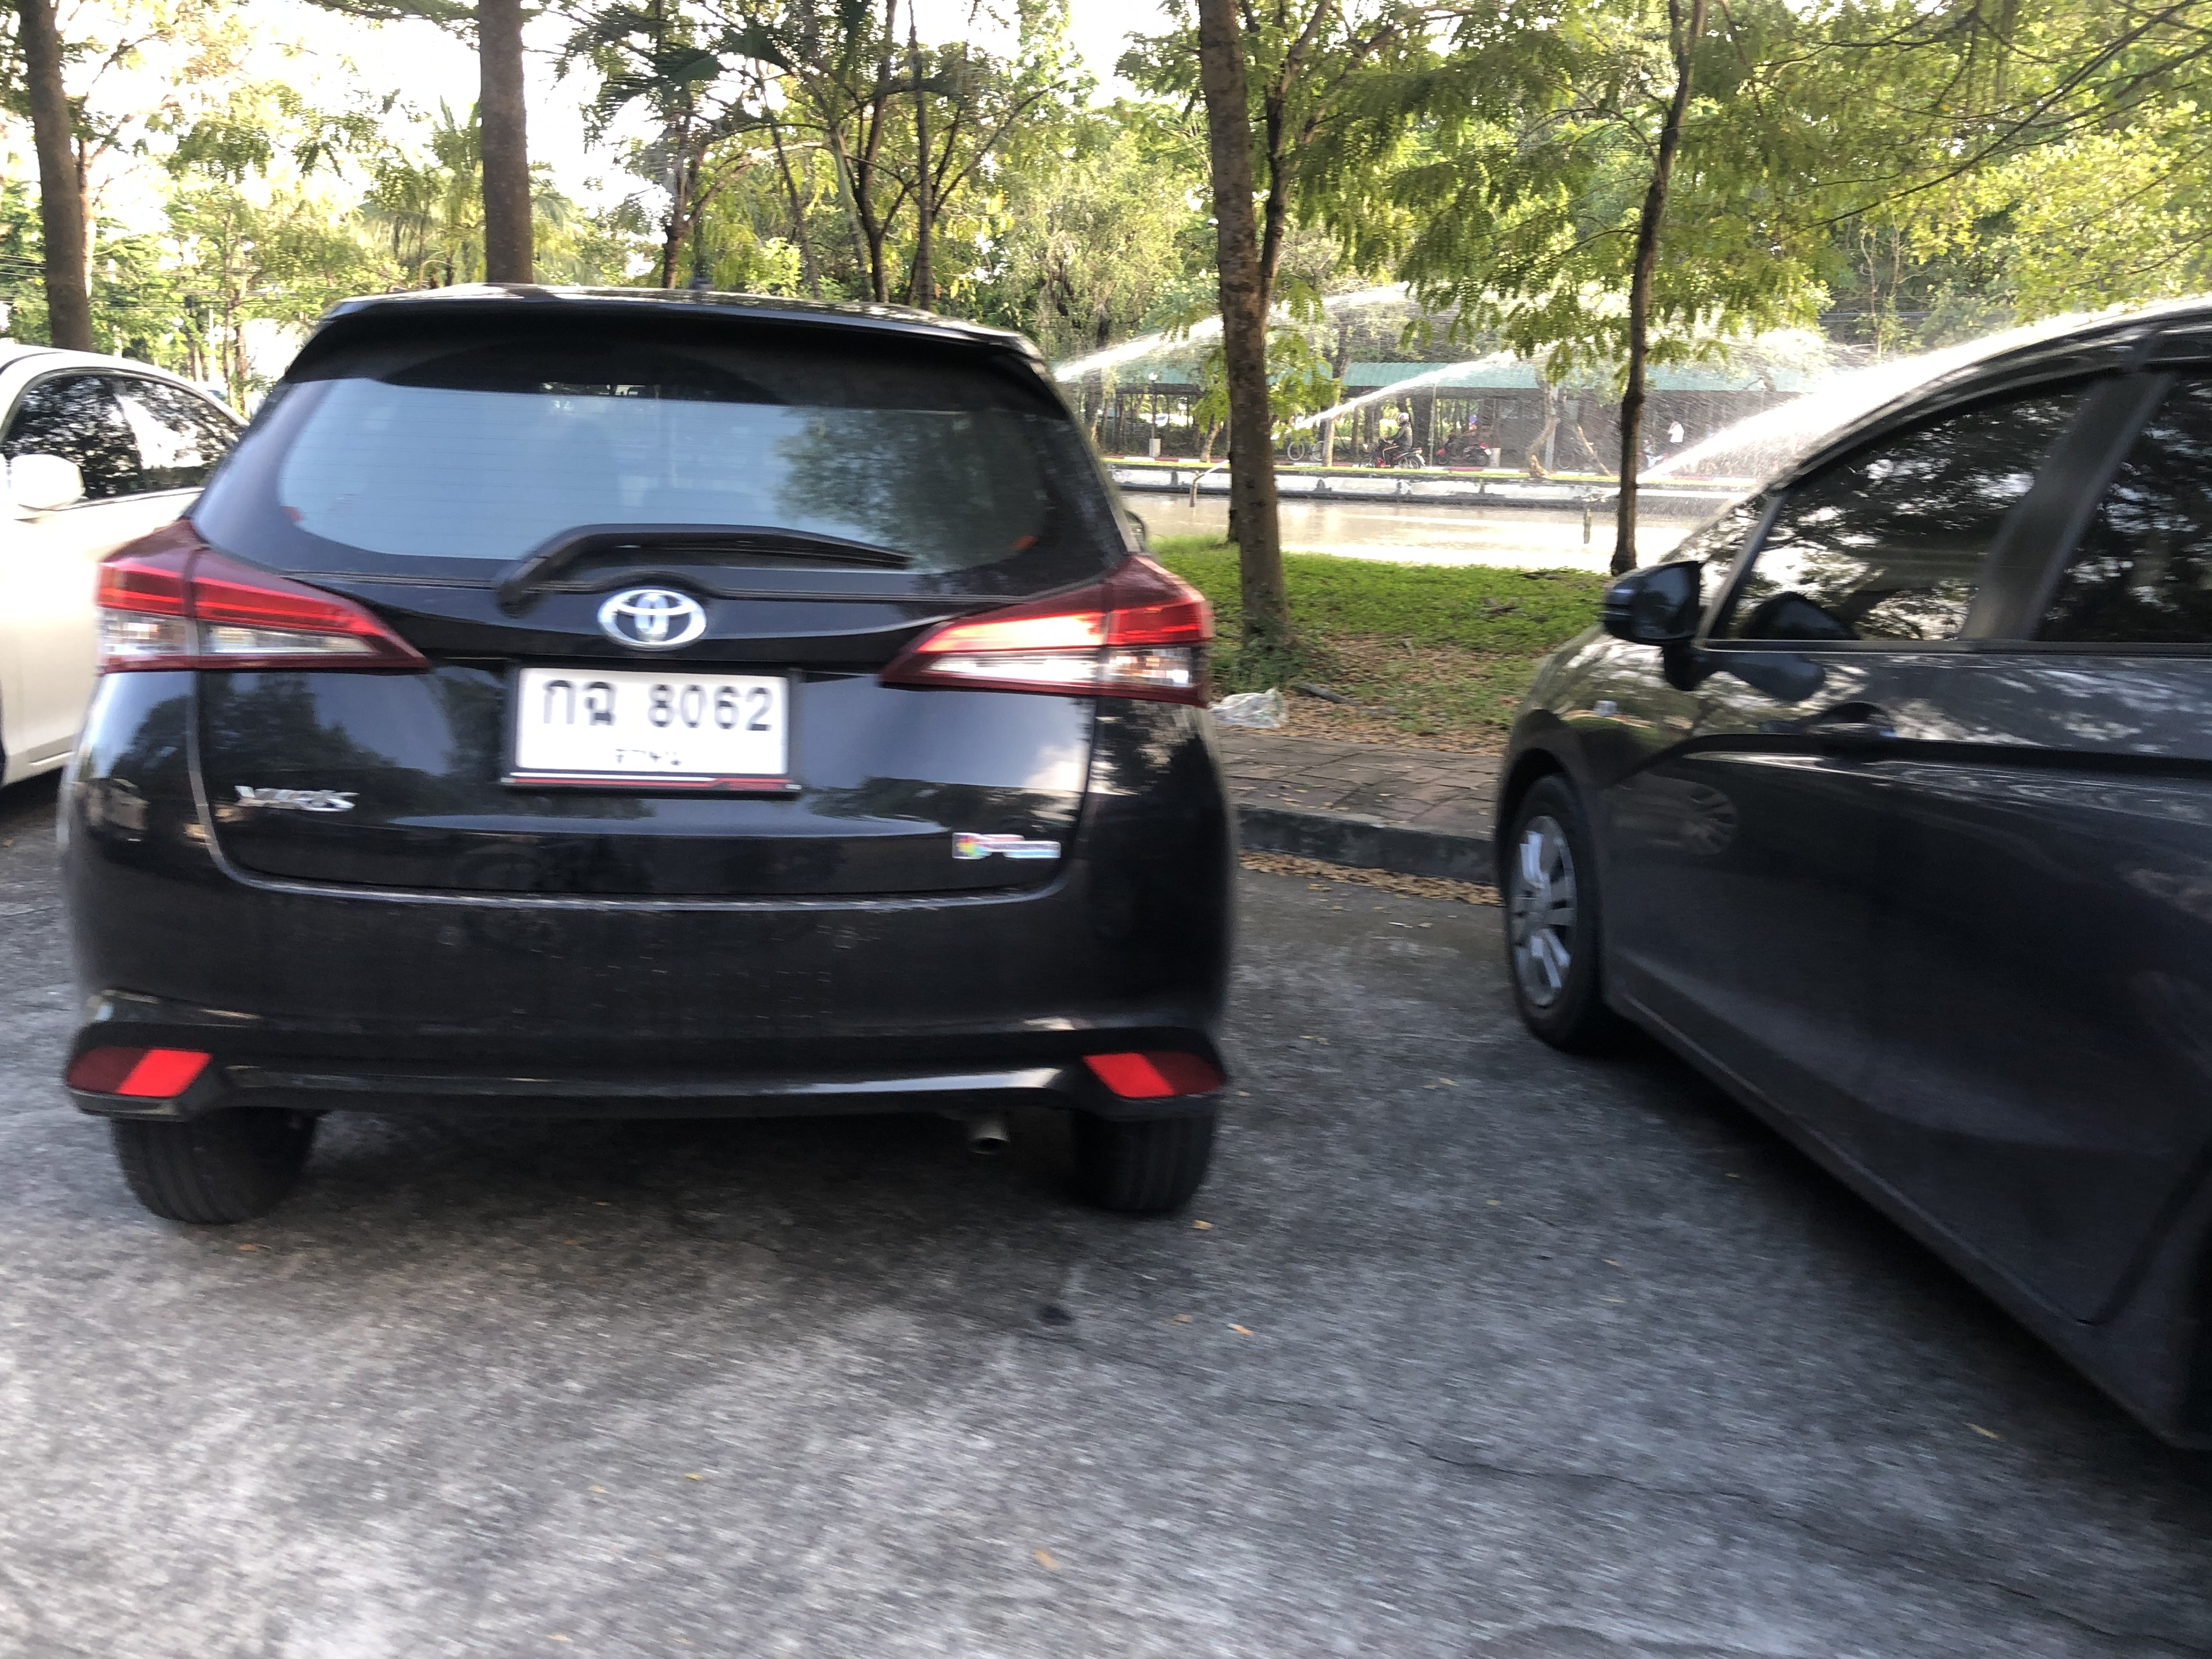in: (526, 671, 779, 772)
out: (503, 653, 806, 800)
